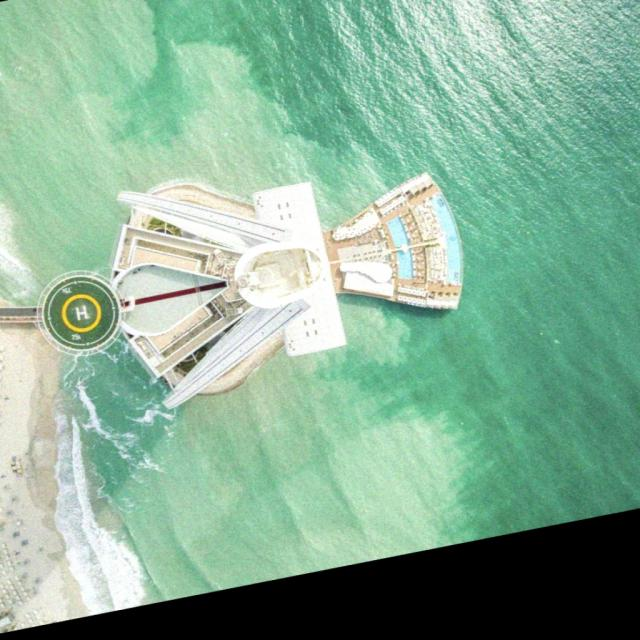helipad: (59, 291, 102, 333)
